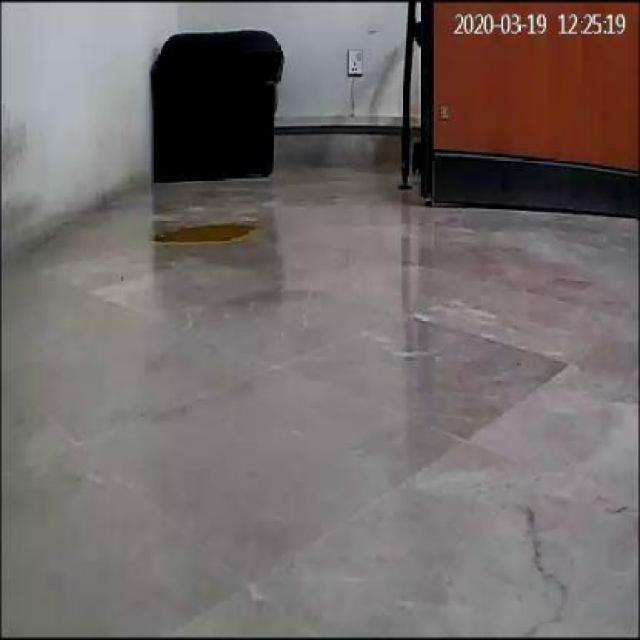spill: (153, 213, 261, 244)
